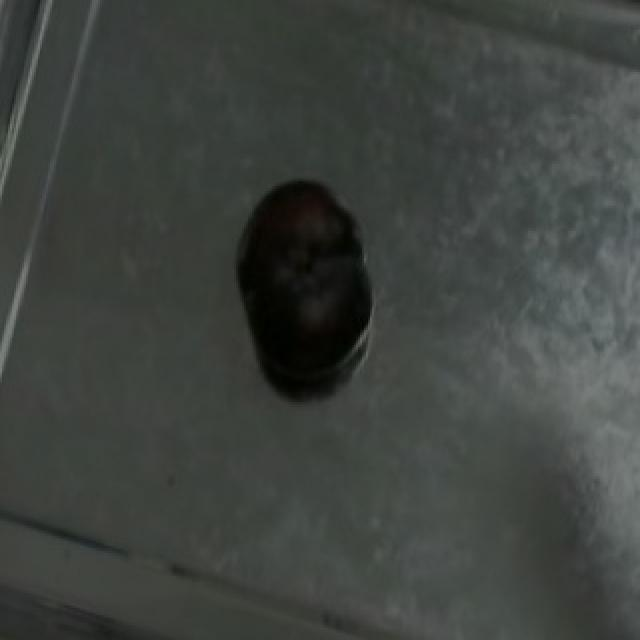Fruit: (224, 162, 372, 348)
